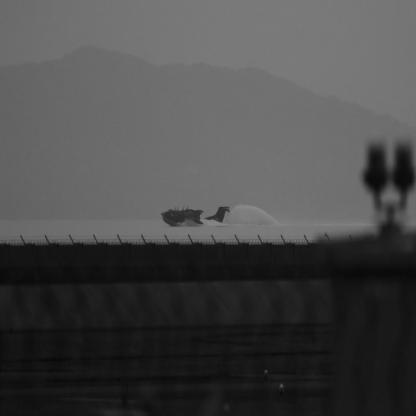US2: (162, 206, 232, 228)
